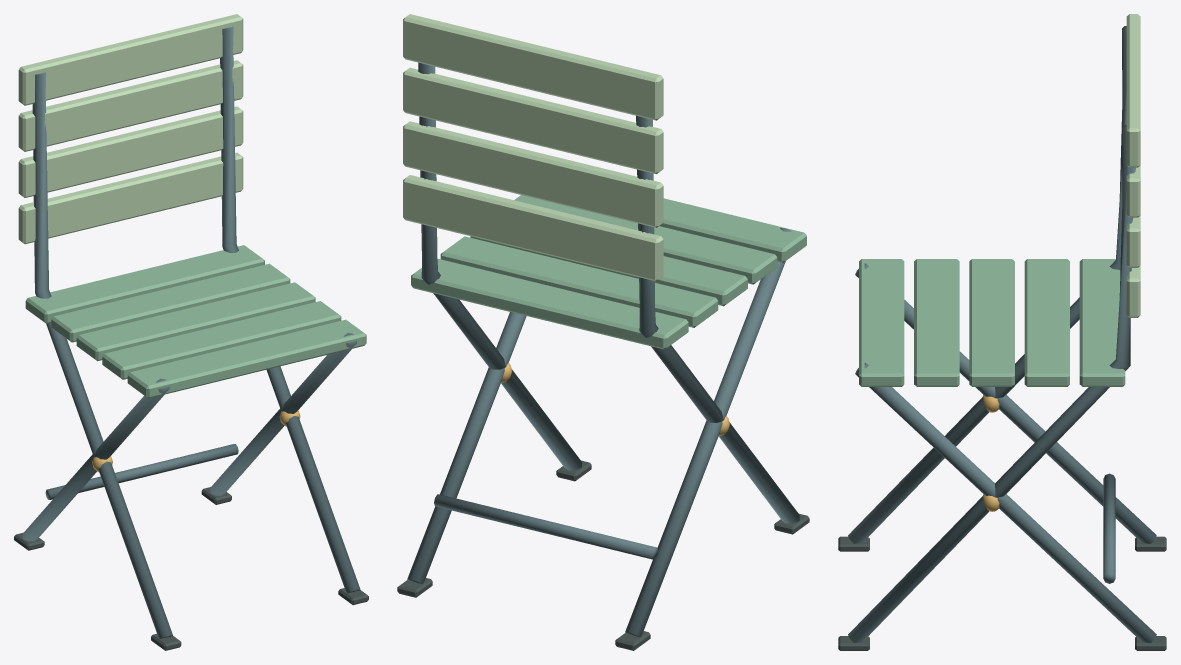
File: chaise_pliante.glb
3 renders of one model, left to right at view 1: azimuth 30°, elevation 25°; view 2: azimuth 150°, elevation 25°; view 3: azimuth 270°, elevation 25°, orthographic. The views are drawn at different scales.
Visible parts, largest first — view 1: chaise_pliante; view 2: chaise_pliante; view 3: chaise_pliante.
Part boxes in pixels (<box>): chaise_pliante: <box>14,14,368,650</box>; chaise_pliante: <box>397,14,809,650</box>; chaise_pliante: <box>838,14,1166,650</box>.
Bounding box in the file's own units: 0.4 × 0.8415 × 0.476.
